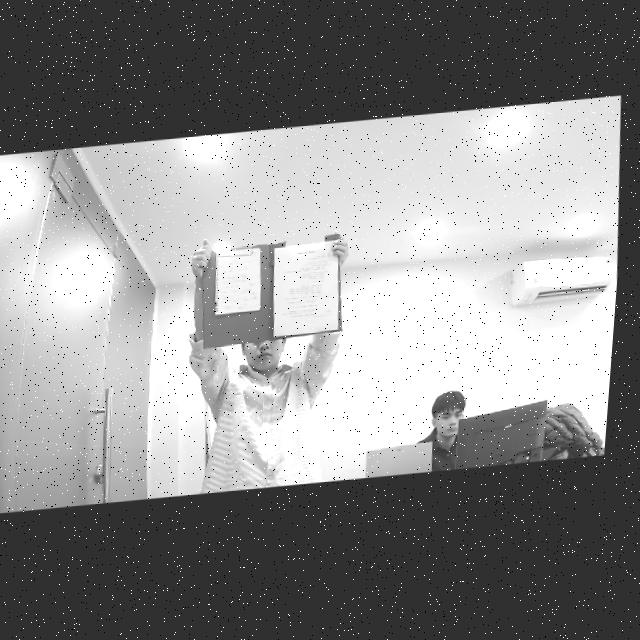document: (273, 240, 339, 338), (215, 248, 261, 315)
face: (424, 396, 464, 446)
